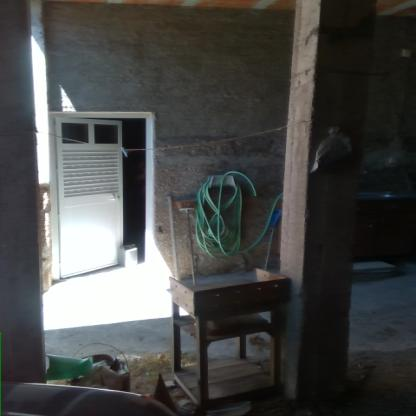semi: (37, 108, 180, 287)
